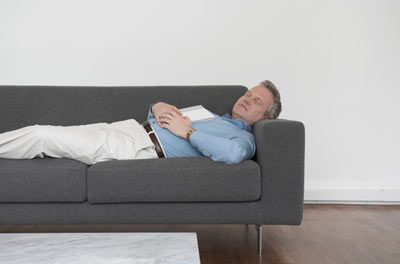Humano: (1, 79, 284, 172)
